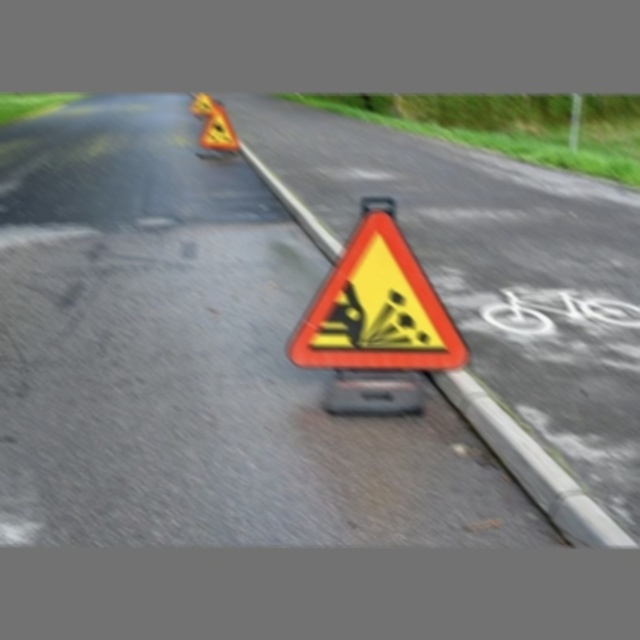Loose_Gravel: (299, 205, 462, 367)
